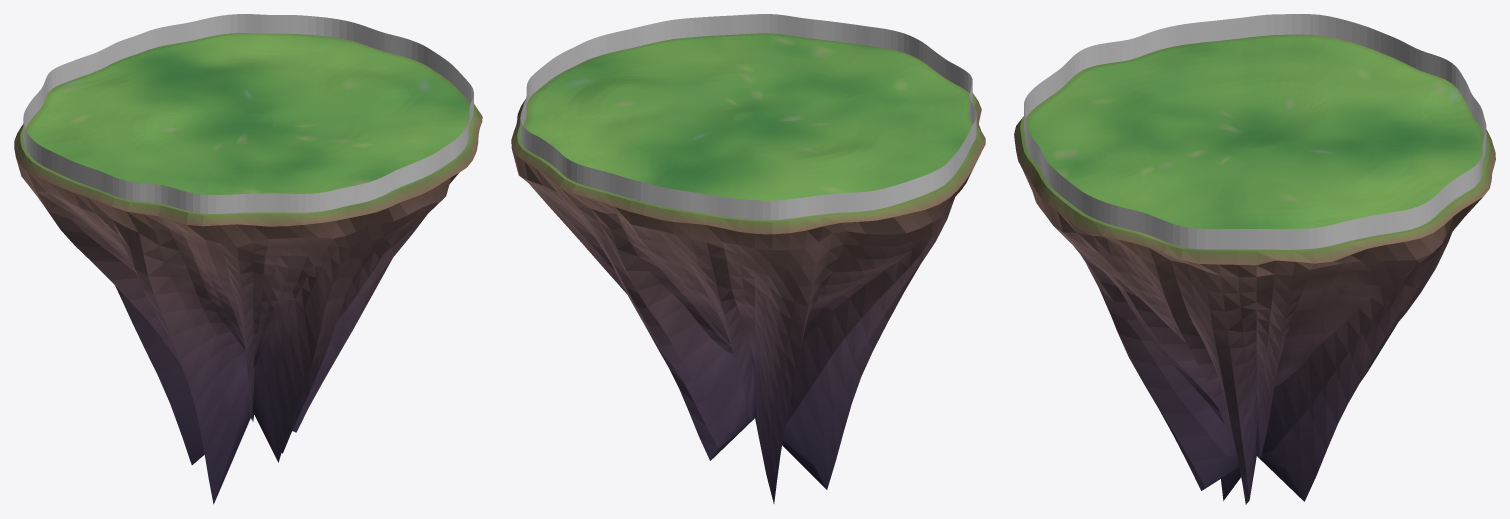
Rendered from Island_Skyreach.fbx.
3 renders of one model, left to right at view 1: azimuth 30°, elevation 25°; view 2: azimuth 150°, elevation 25°; view 3: azimuth 270°, elevation 25°, orthographic. The views are drawn at different scales.
Parts seen in each view (by area): view 1: Island_Skyreach, EdgeWall; view 2: Island_Skyreach, EdgeWall; view 3: Island_Skyreach, EdgeWall.
Boxes of the visible parts, left/top/right/bottom form: Island_Skyreach: left=14, top=33, right=482, bottom=504; EdgeWall: left=23, top=14, right=473, bottom=213; Island_Skyreach: left=511, top=33, right=985, bottom=503; EdgeWall: left=520, top=14, right=976, bottom=219; Island_Skyreach: left=1014, top=34, right=1495, bottom=504; EdgeWall: left=1024, top=14, right=1486, bottom=249.
Bounding box in the file's own units: 61.22 × 53.42 × 56.67.
